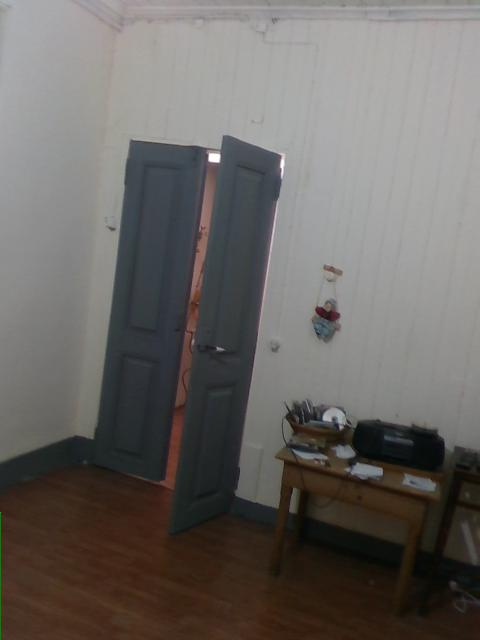semi_door: (92, 132, 284, 539)
